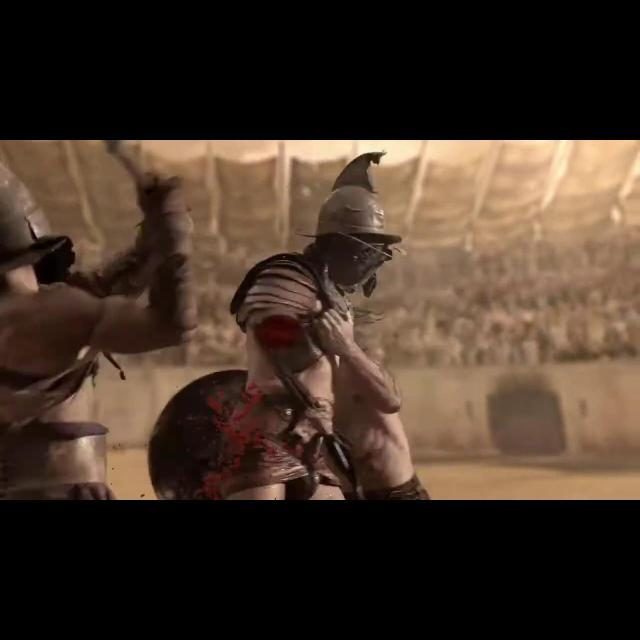blood: (192, 370, 282, 500), (254, 315, 300, 349)
